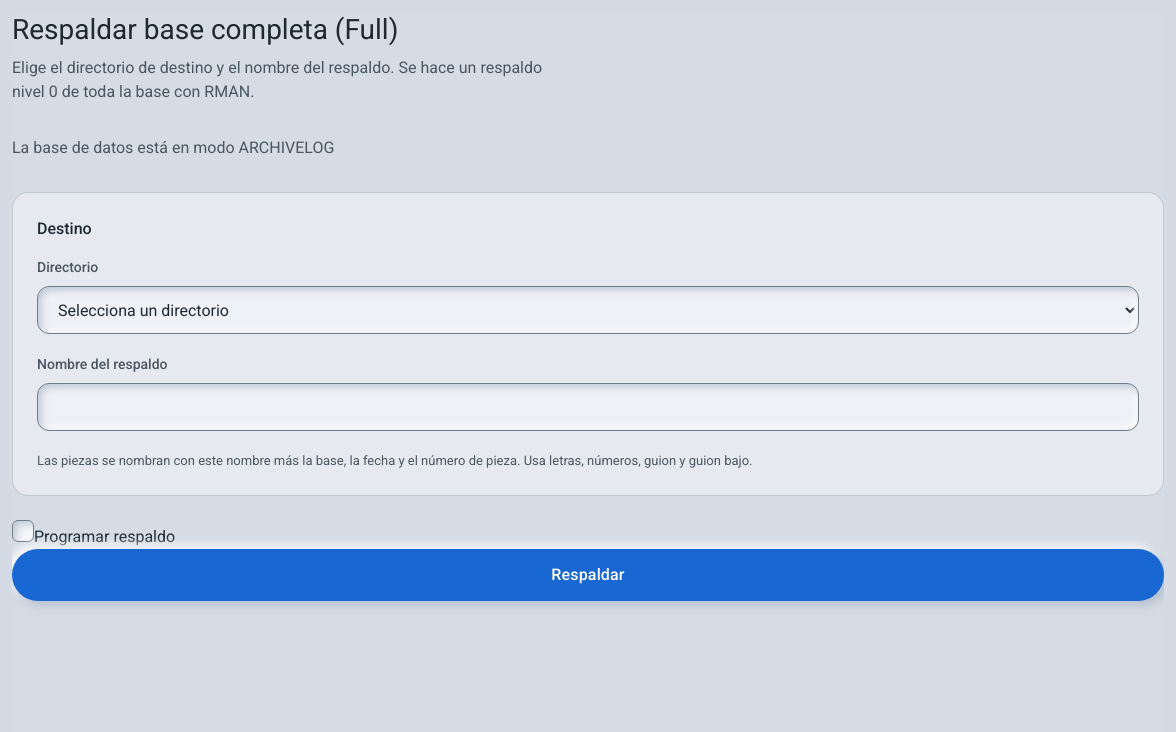
pantalla de respaldo Full › sin ARCHIVELOG al solicitar (409) muestra el mensaje con su explicación
Select "RESPALDO (/opt/oracle/Respaldos)" in the dropdown labelled "Directorio" at (588, 310), box [37, 286, 1139, 334]
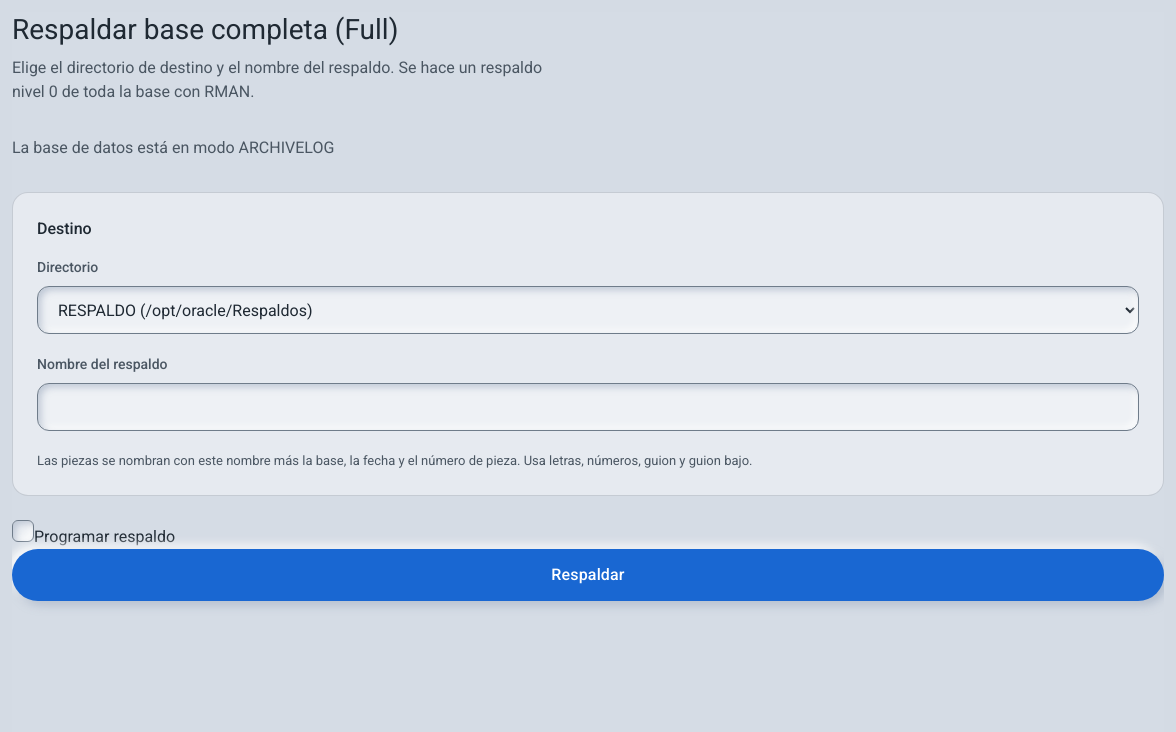
Type "semanal" into the field labelled "Nombre del respaldo" at (588, 407), box [37, 383, 1139, 431]
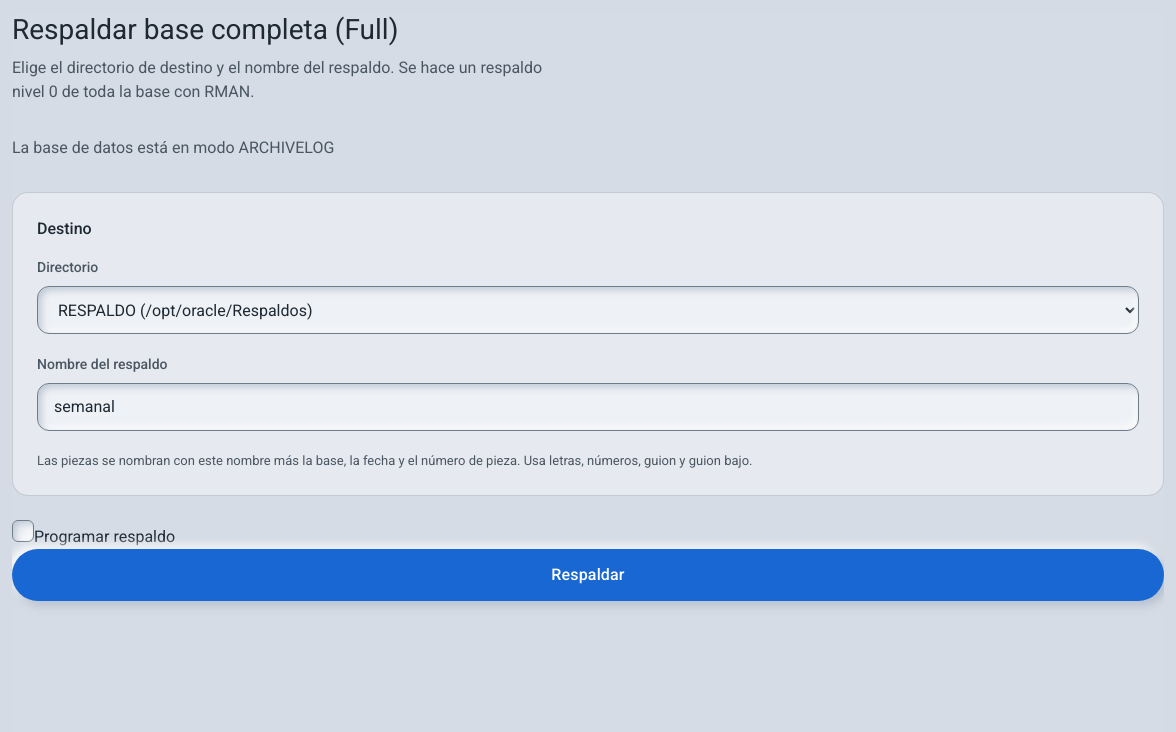
Click the button "Respaldar" at (588, 574), box [12, 548, 1164, 600]
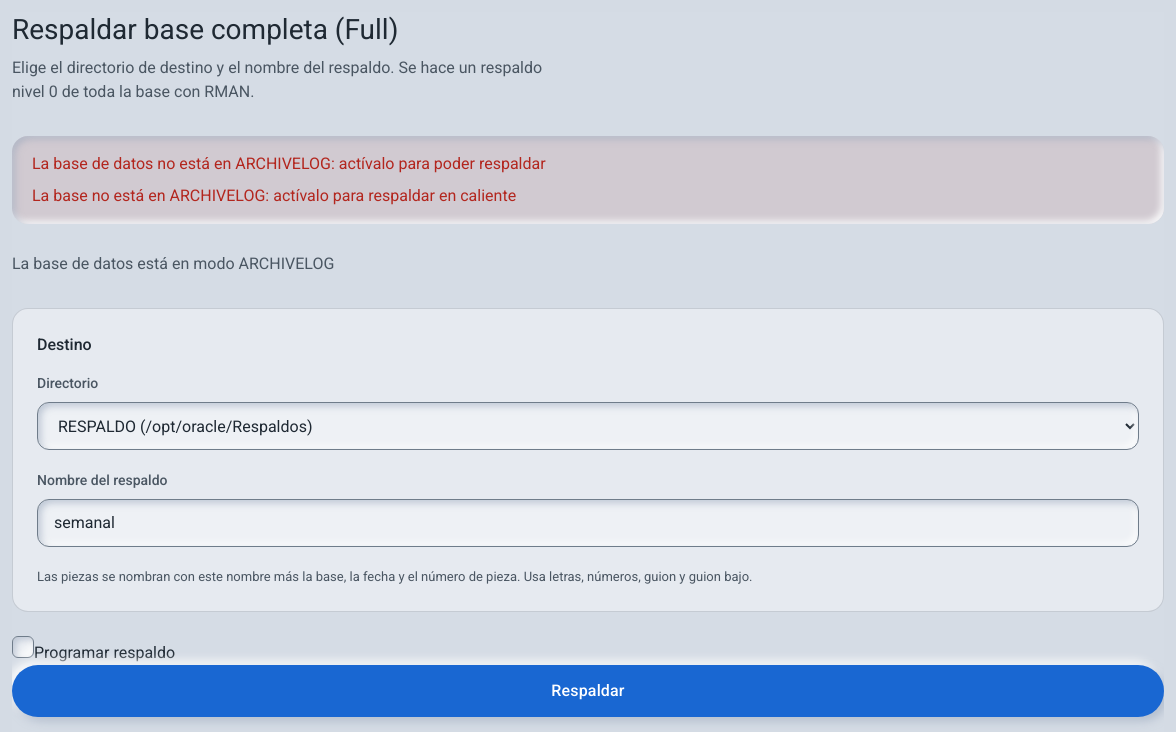
Now the message shows "no está en ARCHIVELOG: actívalo para poder respaldar", box [32, 154, 546, 173]
Now the message shows "actívalo para respaldar en caliente", box [32, 186, 516, 205]
